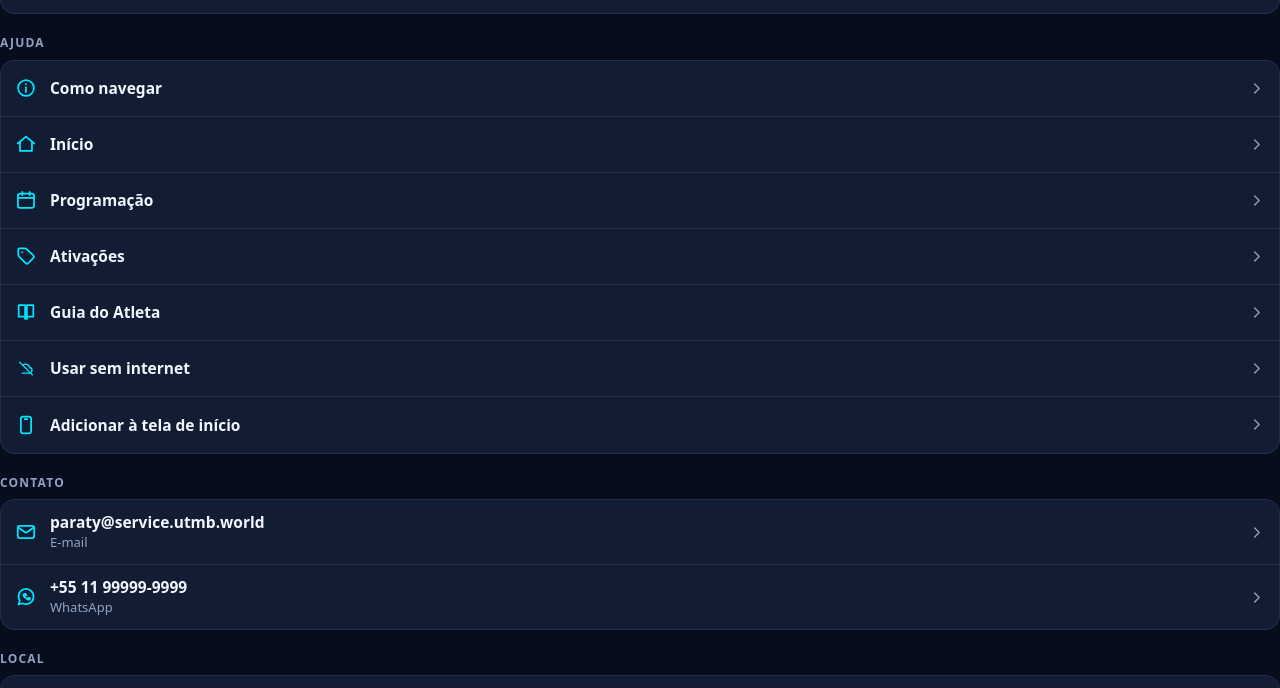
Scenario: tela Info › abre e fecha a explicacao de cada item da ajuda
(page scrolled)
Expected: the text "funciona sem sinal" is not shown
Click the button "Usar sem internet".
click(120, 368)  # box [1,341,1279,397]
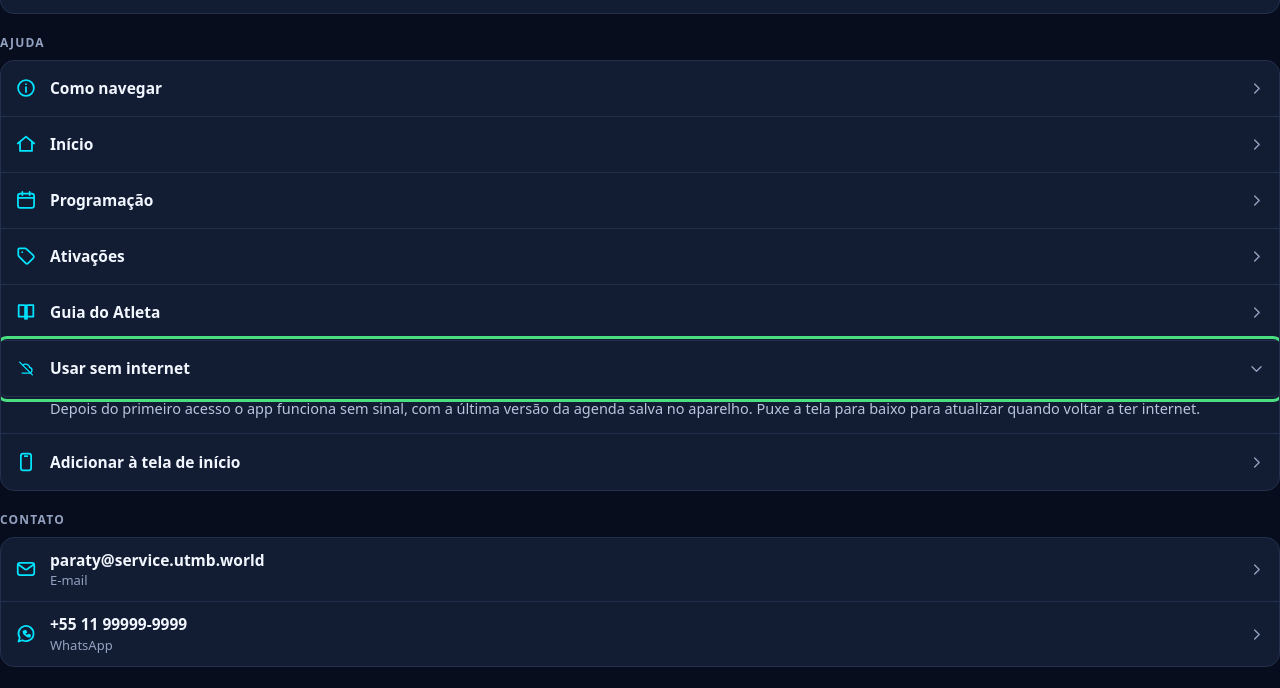
Expected: the button "Usar sem internet" is expanded
Expected: the text "funciona sem sinal" is shown, [50,398,1200,418]
Click the button "Usar sem internet".
click(120, 368)  # box [1,341,1279,397]
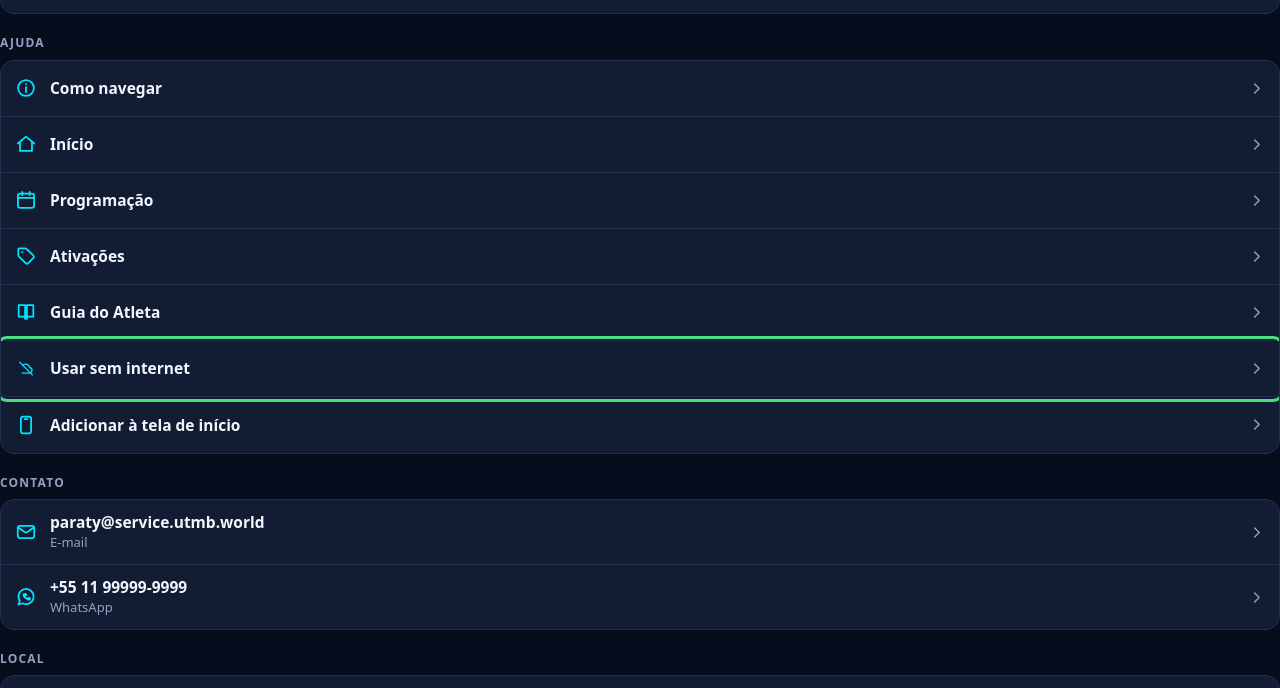
Expected: the text "funciona sem sinal" is gone
